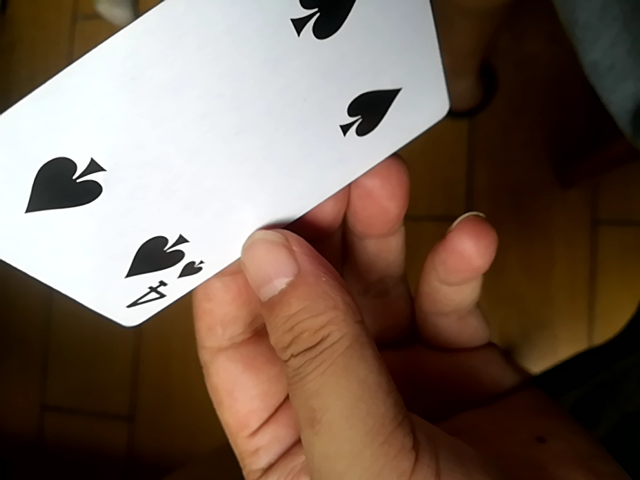ht 4: (4, 0, 451, 336)
